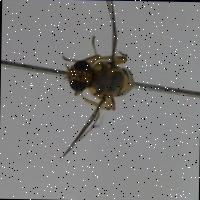Oriental-fruit-fly: (48, 0, 139, 157)
